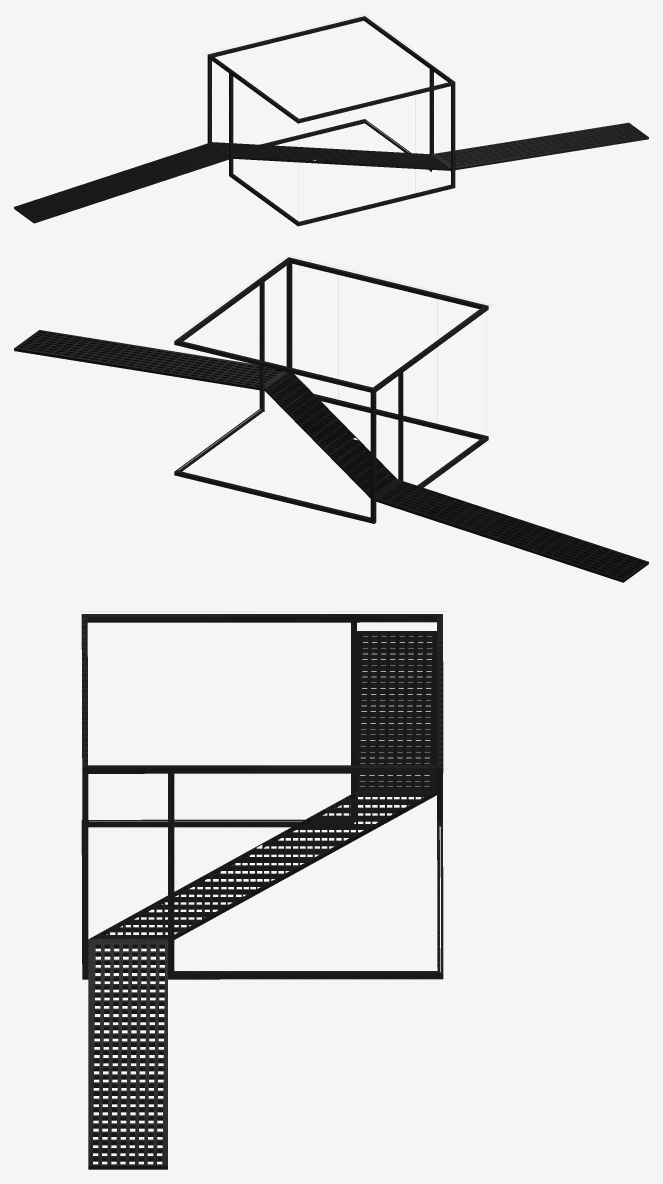
File: CapsulaSimplificada.glb
3 renders of one model, top to bottom at view 1: azimuth 30°, elevation 25°; view 2: azimuth 150°, elevation 25°; view 3: azimuth 270°, elevation 25°, orthographic. The views are drawn at different scales.
Visible parts, largest first — view 1: Mesh_20, Mesh_19, Mesh_12, Mesh_6, Mesh_7, Mesh_10, Mesh_13, Mesh_3, Mesh_17, Mesh_4; view 2: Mesh_20, Mesh_6, Mesh_7, Mesh_19, Mesh_12, Mesh_3, Mesh_4, Mesh_10, Mesh_13, Mesh_1, Mesh_17; view 3: Mesh_20, Mesh_1, Mesh_17, Mesh_4, Mesh_10, Mesh_6, Mesh_13, Mesh_19, Mesh_7.
Part boxes in pixels (left/top/right/bottom): Mesh_20: left=14, top=17, right=648, bottom=223; Mesh_19: left=296, top=81, right=455, bottom=123; Mesh_12: left=296, top=184, right=455, bottom=226; Mesh_6: left=207, top=16, right=365, bottom=58; Mesh_7: left=260, top=119, right=365, bottom=145; Mesh_10: left=451, top=85, right=455, bottom=185; Mesh_13: left=229, top=73, right=233, bottom=174; Mesh_3: left=207, top=58, right=211, bottom=142; Mesh_17: left=229, top=173, right=298, bottom=224; Mesh_4: left=429, top=69, right=433, bottom=154; Mesh_20: left=14, top=258, right=648, bottom=582; Mesh_6: left=174, top=339, right=376, bottom=393; Mesh_7: left=174, top=470, right=376, bottom=523; Mesh_19: left=287, top=257, right=488, bottom=310; Mesh_12: left=314, top=394, right=488, bottom=440; Mesh_3: left=370, top=392, right=376, bottom=519; Mesh_4: left=259, top=282, right=264, bottom=409; Mesh_10: left=286, top=263, right=292, bottom=367; Mesh_13: left=398, top=372, right=403, bottom=480; Mesh_1: left=176, top=409, right=264, bottom=471; Mesh_17: left=417, top=437, right=486, bottom=487; Mesh_20: left=87, top=614, right=437, bottom=1169; Mesh_1: left=168, top=971, right=437, bottom=979; Mesh_17: left=88, top=819, right=354, bottom=827; Mesh_4: left=168, top=773, right=174, bottom=973; Mesh_10: left=82, top=774, right=88, bottom=973; Mesh_6: left=437, top=614, right=443, bottom=773; Mesh_13: left=351, top=622, right=356, bottom=822; Mesh_19: left=81, top=614, right=88, bottom=773; Mesh_7: left=437, top=822, right=443, bottom=979.
Bounding box in the file's own units: 14.01 × 2.6 × 5.62.
4 materials, 1 textured.
